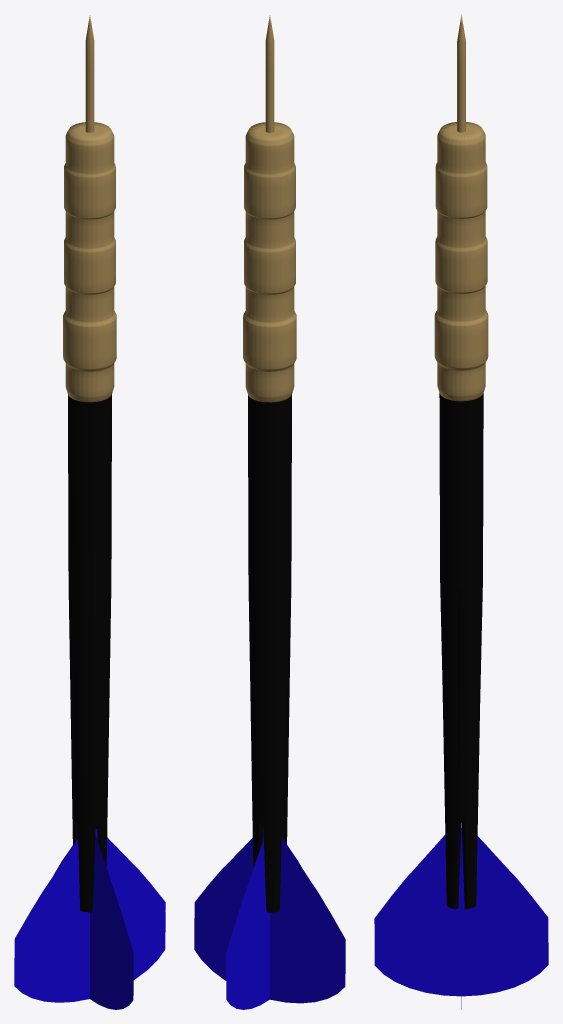
3 views of the same model, side by side, from view 1: azimuth 30°, elevation 25°; view 2: azimuth 150°, elevation 25°; view 3: azimuth 270°, elevation 25° (orthographic).
Parts seen in each view (by area): view 1: Cylinder.005_9, Cylinder.004_8, Circle.002_10, Circle.003_11, Cylinder.003_7; view 2: Cylinder.005_9, Cylinder.004_8, Circle.002_10, Circle.003_11, Cylinder.003_7; view 3: Cylinder.005_9, Circle.003_11, Cylinder.004_8, Cylinder.003_7.
Boxes of the visible parts, x1=… form: Cylinder.005_9: x1=68, y1=394, x2=111, y2=912; Cylinder.004_8: x1=63, y1=122, x2=116, y2=402; Circle.002_10: x1=14, y1=829, x2=165, y2=1002; Circle.003_11: x1=54, y1=835, x2=133, y2=1009; Cylinder.003_7: x1=85, y1=15, x2=94, y2=132; Cylinder.005_9: x1=248, y1=395, x2=291, y2=912; Cylinder.004_8: x1=243, y1=122, x2=296, y2=402; Circle.002_10: x1=194, y1=829, x2=345, y2=1003; Circle.003_11: x1=226, y1=839, x2=300, y2=1009; Cylinder.003_7: x1=265, y1=15, x2=274, y2=132; Cylinder.005_9: x1=439, y1=393, x2=483, y2=909; Circle.003_11: x1=374, y1=828, x2=548, y2=996; Cylinder.004_8: x1=434, y1=122, x2=488, y2=401; Cylinder.003_7: x1=457, y1=14, x2=465, y2=132.
Size of the model in its own units: 3.13 by 19.48 by 3.13.
